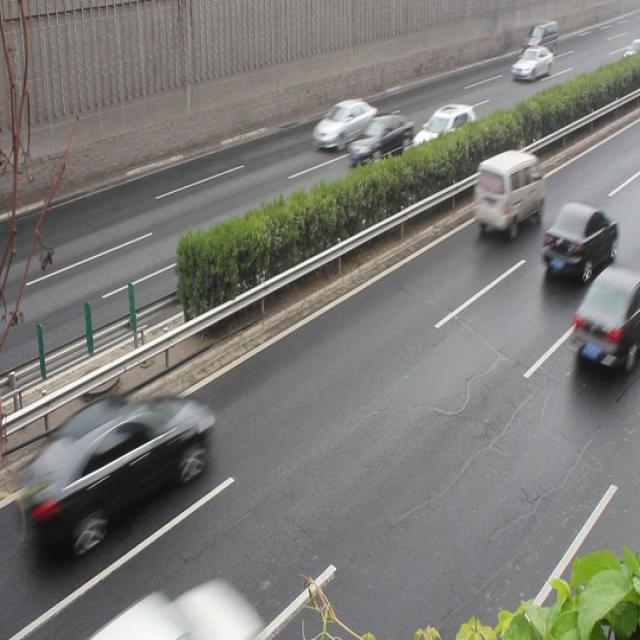car: (48, 396, 208, 537), (570, 266, 640, 372), (540, 201, 616, 281), (346, 113, 411, 167), (411, 104, 476, 158), (311, 98, 377, 150)
truck: (472, 150, 542, 234)
